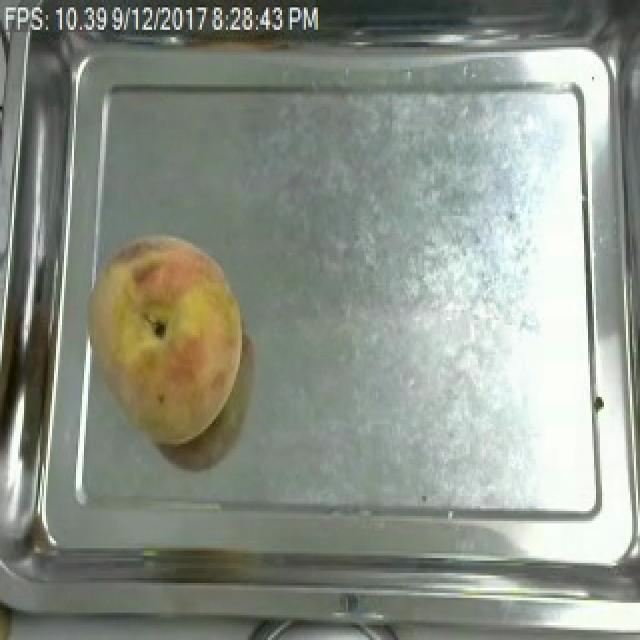Fruit: (68, 223, 254, 454)
